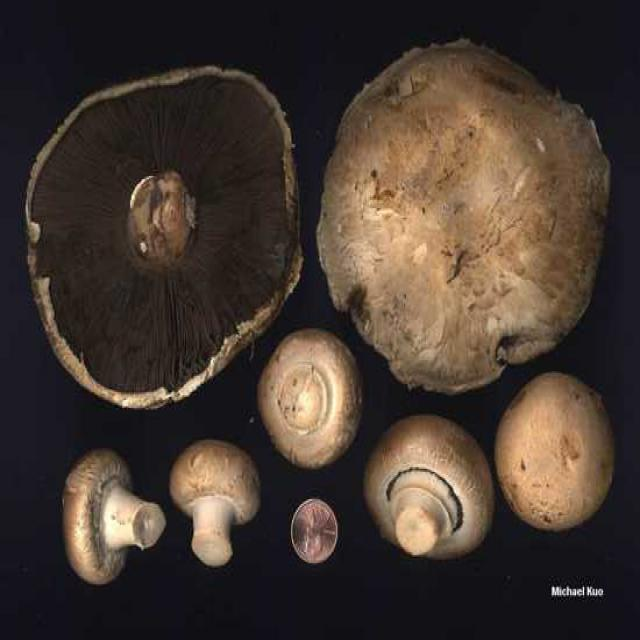Agaricus bisporus: (318, 42, 607, 395), (26, 64, 307, 410), (500, 370, 617, 528), (365, 412, 495, 554), (67, 451, 165, 580), (268, 329, 361, 460), (172, 438, 263, 567)
